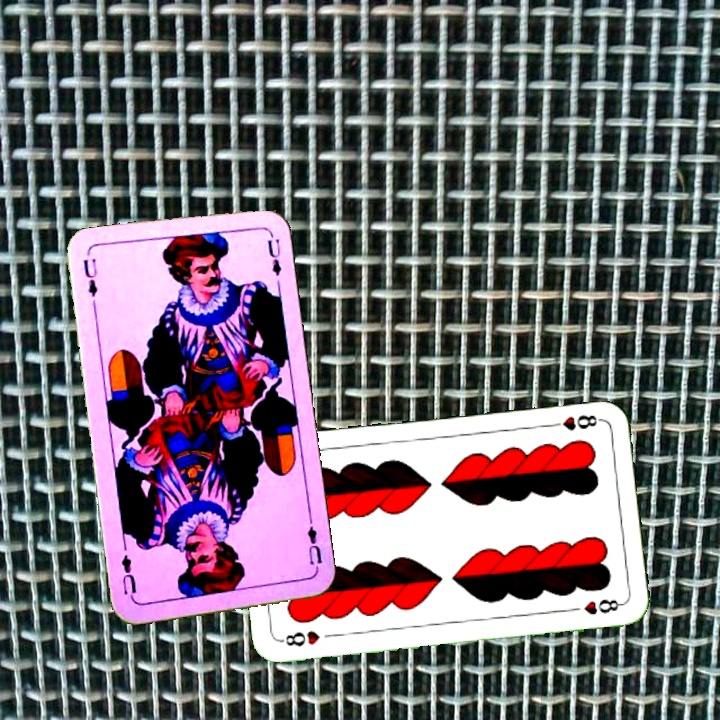EU: (303, 515, 325, 575), (79, 254, 100, 300)
H8: (546, 410, 605, 433), (277, 626, 322, 649)
